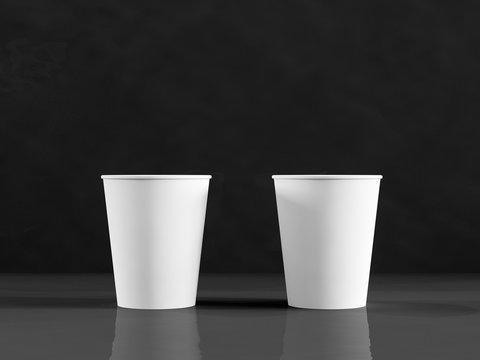cup-disposable: (98, 167, 214, 312), (270, 167, 385, 312)
